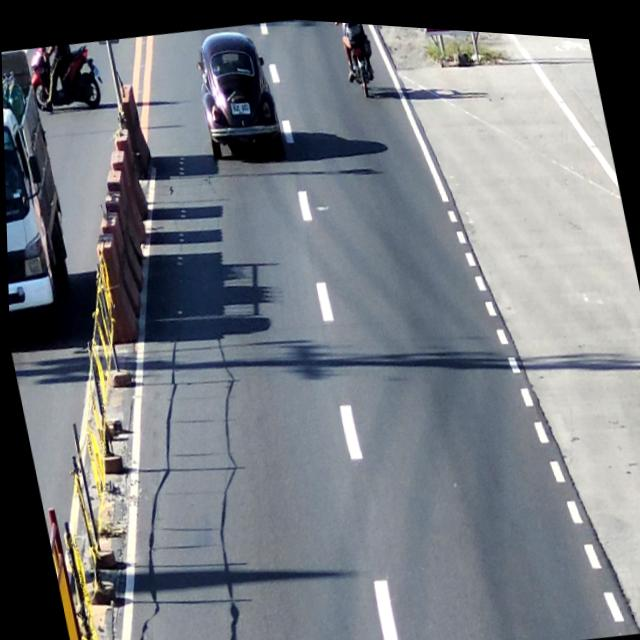Car: (185, 15, 287, 165)
License-Plate: (227, 94, 255, 117)
Motorcycle: (335, 18, 382, 95)
